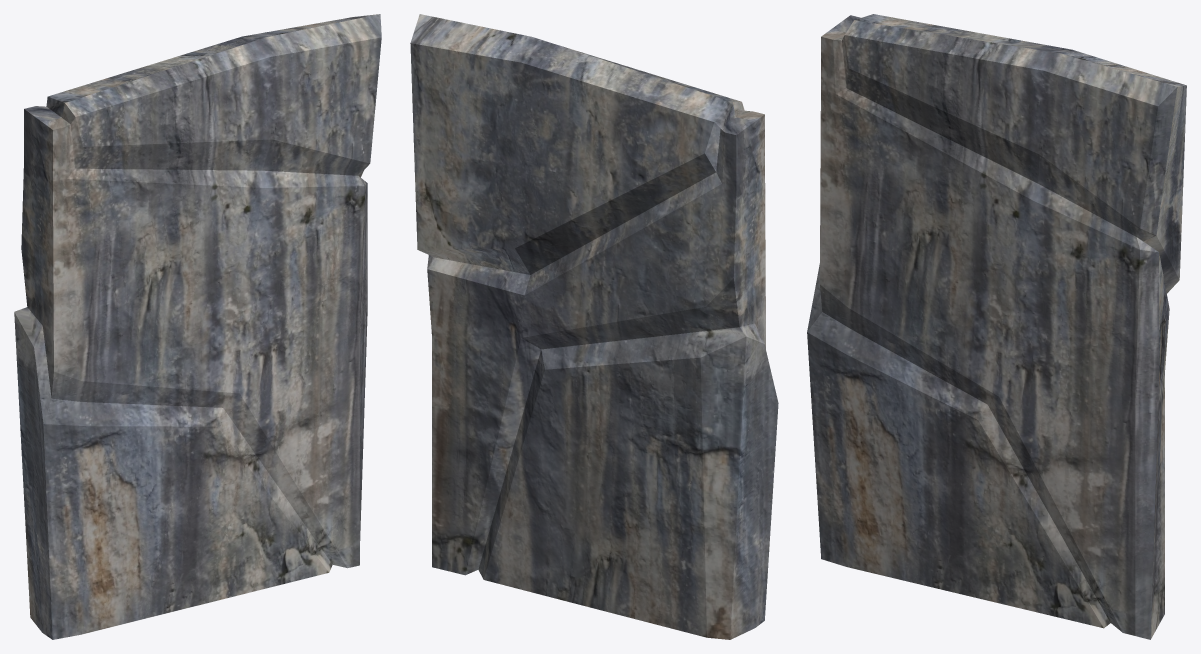
File: RockWall_3.fbx
3 views of the same model, side by side, from view 1: azimuth 30°, elevation 25°; view 2: azimuth 150°, elevation 25°; view 3: azimuth 330°, elevation 25° (orthographic). The views are drawn at different scales.
Parts seen in each view (by area): view 1: polySurface4; view 2: polySurface4; view 3: polySurface4.
Boxes of the visible parts, x1,y1,x2,y2 form: polySurface4: (14, 14, 381, 639); polySurface4: (410, 14, 778, 639); polySurface4: (807, 14, 1186, 639).
Size of the model in its own units: 9.67 by 14.52 by 2.02.
